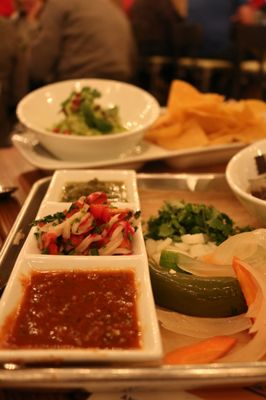curry: (145, 201, 237, 245)
sandwich: (0, 173, 54, 295)
sushi: (0, 168, 164, 370), (15, 78, 161, 165), (225, 139, 266, 227)
